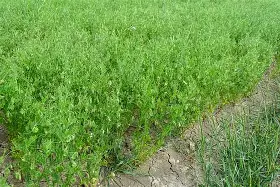crops: (0, 0, 276, 184), (203, 3, 280, 67), (101, 135, 199, 185), (51, 57, 126, 121), (215, 112, 279, 185), (0, 56, 52, 130), (84, 0, 173, 42), (9, 124, 62, 183), (0, 0, 64, 47), (240, 54, 277, 119), (152, 85, 199, 133), (73, 146, 106, 185), (186, 148, 214, 186), (228, 40, 249, 59), (103, 55, 122, 76), (33, 112, 53, 129), (231, 30, 244, 45), (82, 24, 94, 36)
